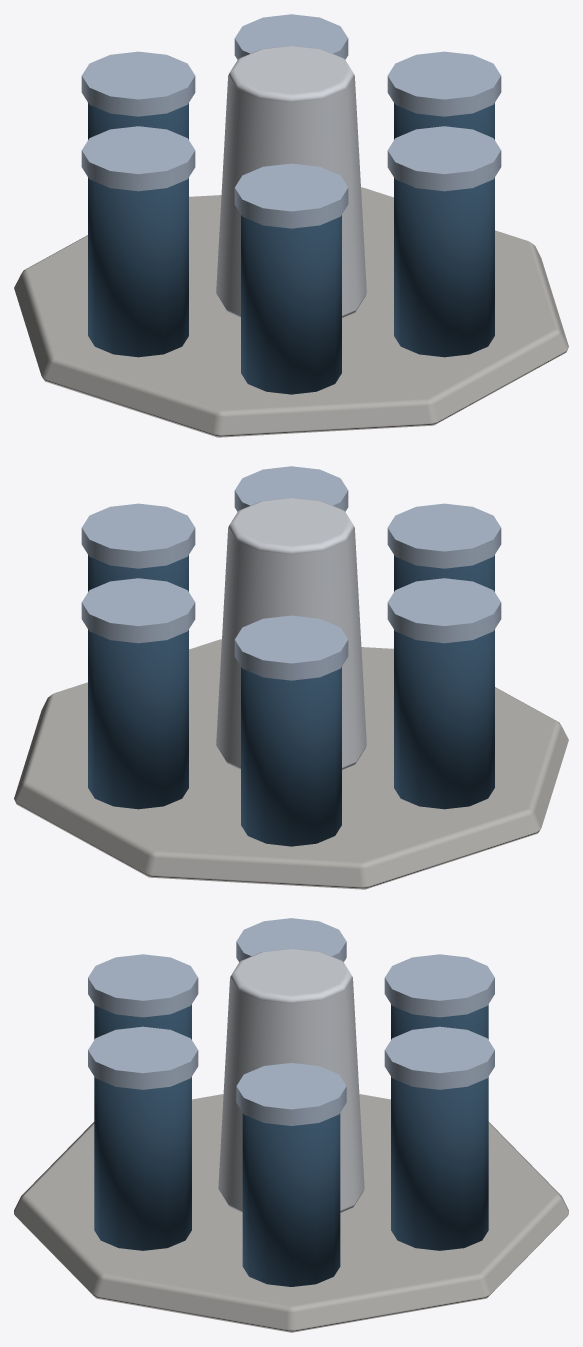
Rendered from cloningvats.glb.
3 renders of one model, top to bottom at view 1: azimuth 30°, elevation 25°; view 2: azimuth 150°, elevation 25°; view 3: azimuth 270°, elevation 25°, orthographic. The views are drawn at different scales.
Visible parts, largest first — view 1: cloningvats; view 2: cloningvats; view 3: cloningvats.
Boxes of the visible parts, x1,y1,x2,y2 form: cloningvats: (14,14,568,437); cloningvats: (14,466,568,889); cloningvats: (14,918,568,1332).
Size of the model in its own units: 0.907 by 0.44 by 0.907.
